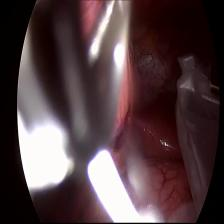Specimen Bag: (169, 53, 224, 223)
